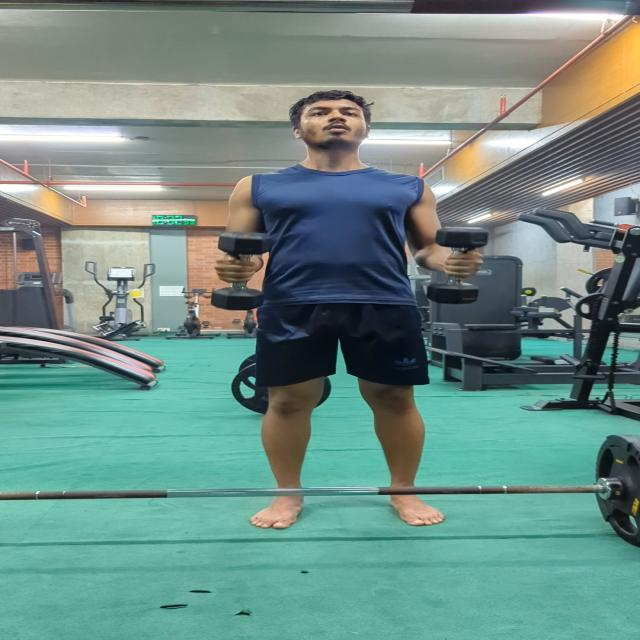Normal_DumbbellBicepCurls: (194, 84, 502, 530)
